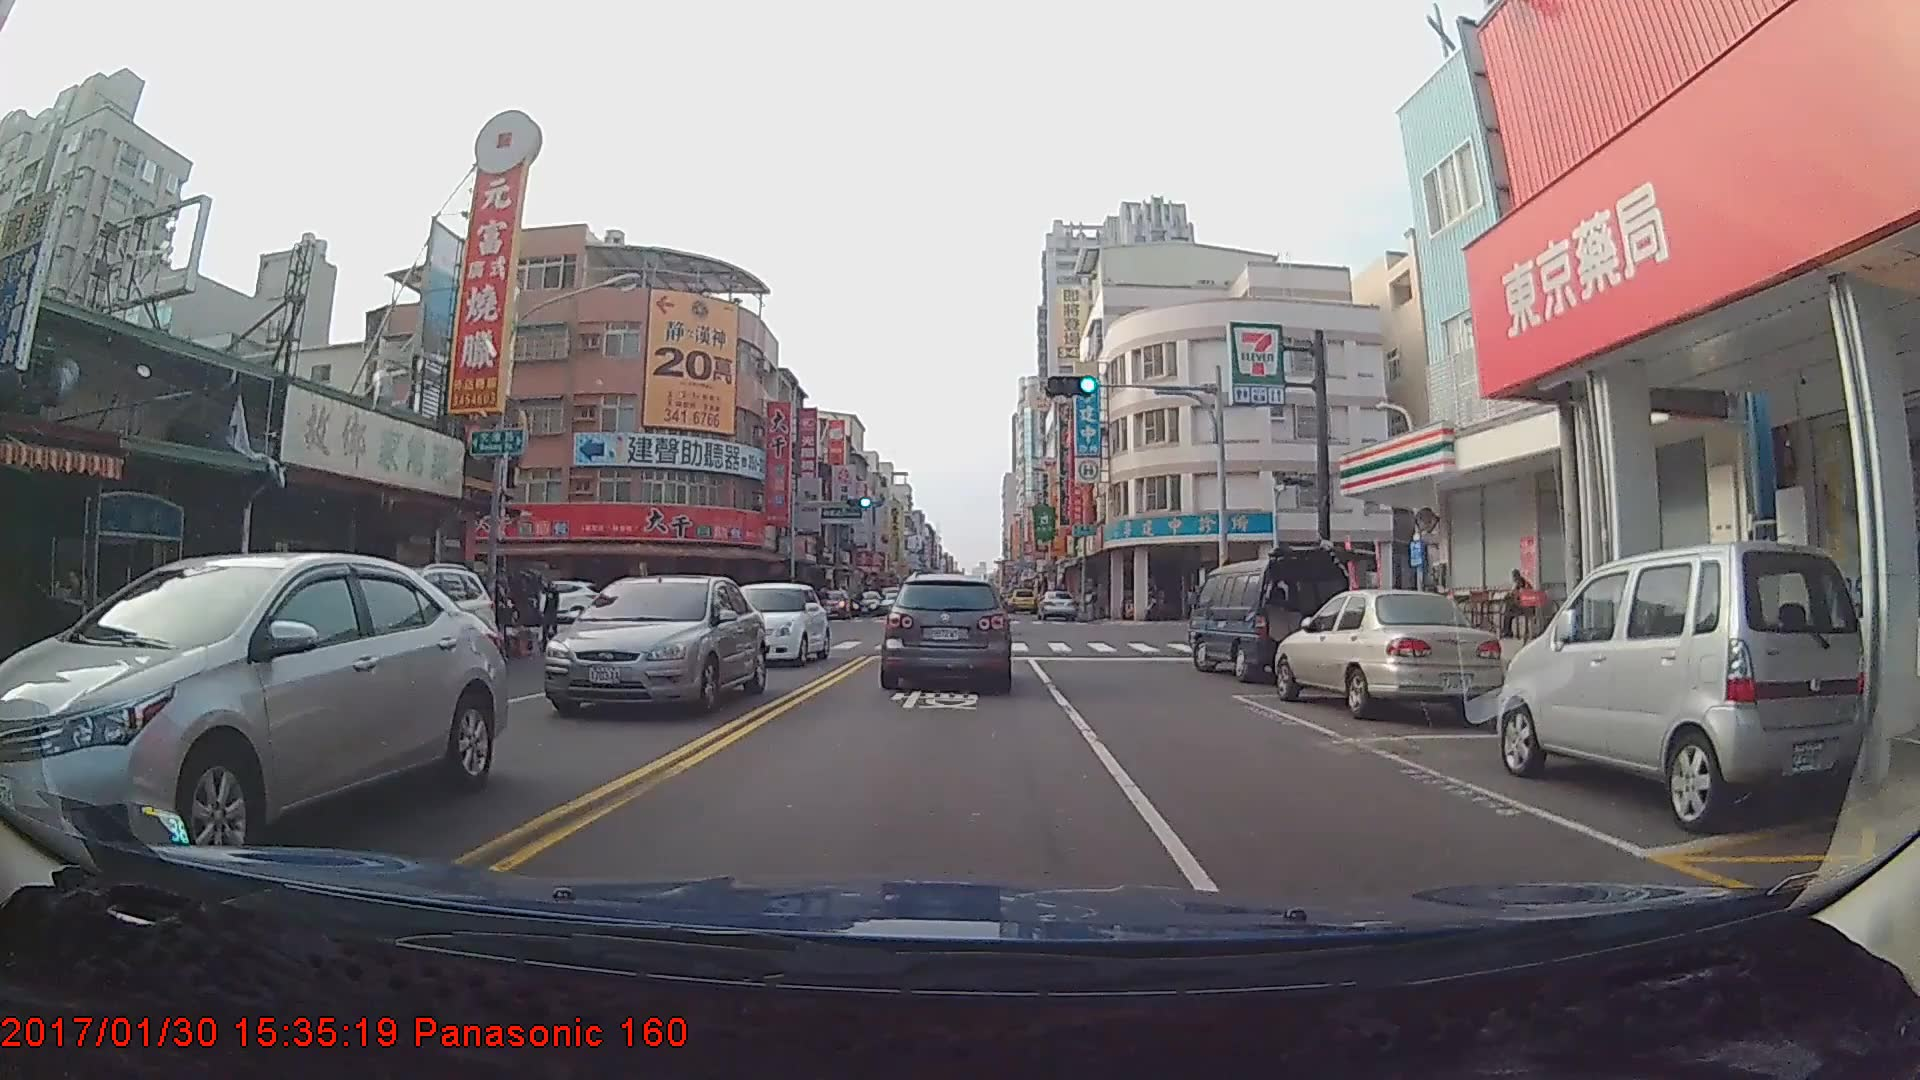vehicle: (0, 549, 510, 876), (1501, 539, 1867, 825), (550, 572, 761, 716), (1275, 587, 1498, 717), (1188, 562, 1348, 676), (882, 570, 1011, 694), (705, 582, 828, 669), (1036, 588, 1079, 622), (811, 585, 848, 620), (849, 592, 884, 616), (1007, 588, 1036, 612)
